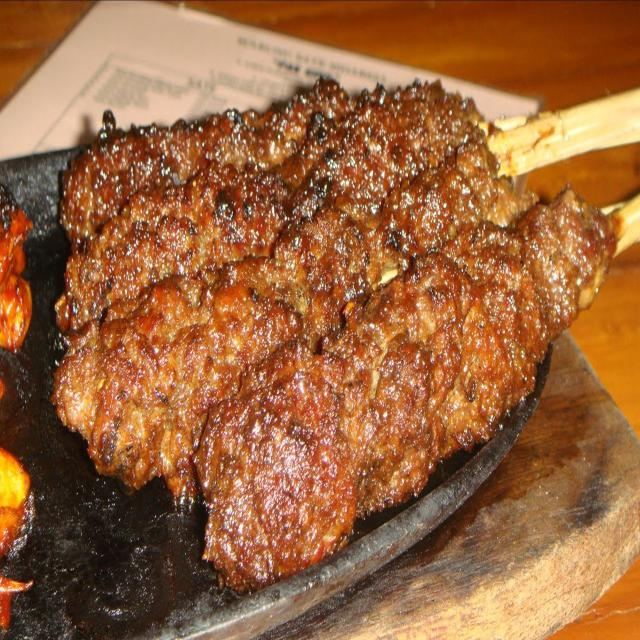Sate: (45, 21, 640, 640)
